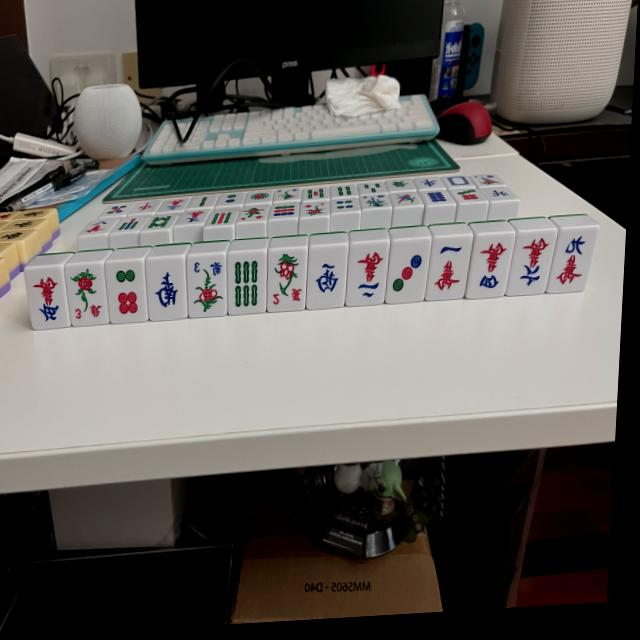bai: (446, 173, 471, 190)
east: (420, 175, 441, 190)
f1: (472, 173, 499, 188)
f2: (273, 187, 300, 205)
f3: (183, 253, 231, 318)
f4: (359, 193, 393, 210)
fa: (389, 178, 411, 193)
ff1: (300, 200, 329, 219)
ff2: (266, 248, 309, 312)
ff3: (61, 263, 112, 328)
ff4: (236, 206, 268, 226)
m1: (425, 236, 472, 301)
m2: (345, 241, 390, 306)
m3: (160, 197, 188, 214)
m4: (466, 232, 515, 299)
m5: (19, 264, 72, 331)
m6: (503, 229, 556, 296)
m7: (175, 211, 214, 229)
m8: (81, 218, 114, 235)
m9: (545, 225, 600, 294)
north: (487, 185, 512, 203)
s1: (387, 190, 423, 208)
s2: (188, 193, 214, 211)
s3: (358, 181, 385, 195)
s4: (330, 183, 356, 200)
s5: (99, 202, 132, 218), (301, 186, 329, 202)
s6: (226, 250, 270, 316)
s7: (111, 216, 149, 236)
s8: (141, 215, 177, 234)
s9: (205, 210, 241, 229), (269, 204, 298, 222)
south: (142, 255, 190, 321)
t1: (244, 189, 272, 206)
t2: (215, 192, 243, 208)
t3: (385, 238, 431, 303)
t4: (332, 196, 358, 216)
t6: (102, 260, 152, 325)
t7: (451, 187, 487, 204)
t8: (420, 188, 457, 207)
west: (306, 247, 350, 311)
zhong: (126, 201, 163, 217)
